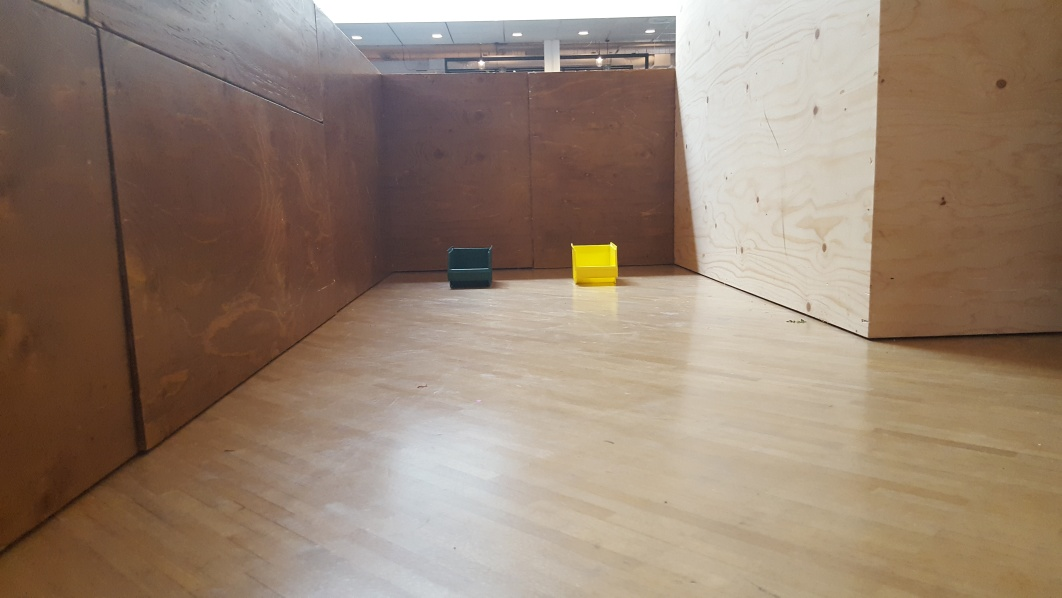tray: (443, 244, 497, 289), (568, 240, 619, 286)
